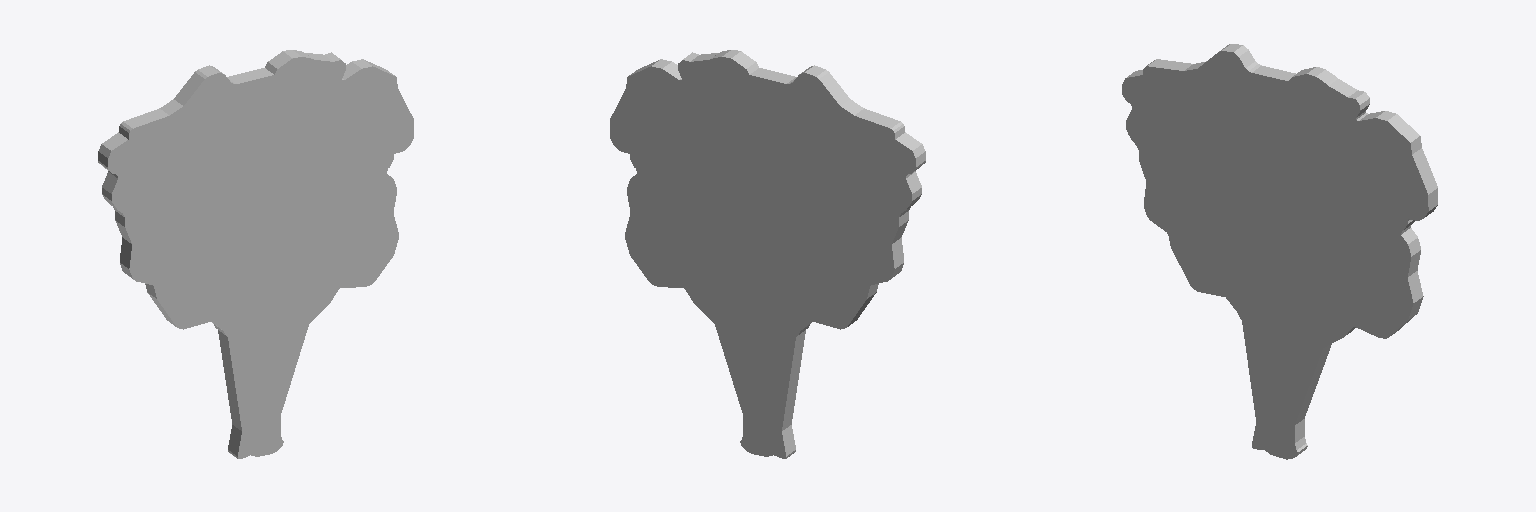
Rendered from arbol.obj.
3 renders of one model, left to right at view 1: azimuth 30°, elevation 25°; view 2: azimuth 150°, elevation 25°; view 3: azimuth 330°, elevation 25°, orthographic.
Parts seen in each view (by area): view 1: Cube.001; view 2: Cube.001; view 3: Cube.001.
Boxes of the visible parts, <box> form: Cube.001: <box>98,50,413,458</box>; Cube.001: <box>610,50,925,458</box>; Cube.001: <box>1122,44,1437,459</box>.
Size of the model in its own units: 6.67 by 8.19 by 0.3735.